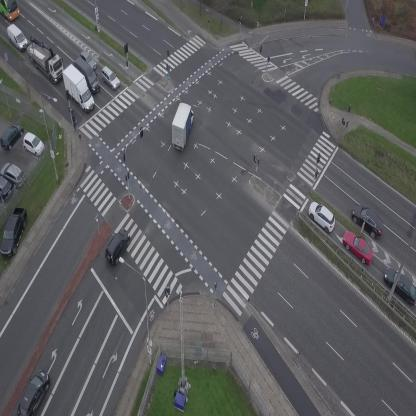bicycle: (71, 113, 79, 130)
car: (304, 198, 341, 235), (101, 226, 135, 266), (96, 65, 124, 91), (78, 49, 100, 71), (13, 412, 26, 416)
lorry: (17, 33, 72, 88), (55, 62, 105, 114), (70, 55, 105, 95)
